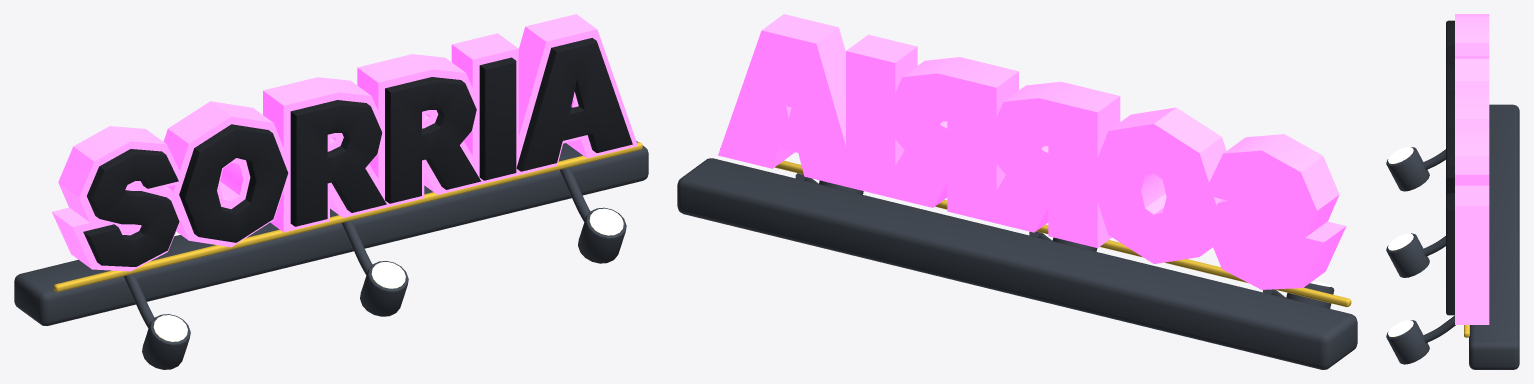
The model's file is letreiro_sorria_telhado.glb.
The picture shows the model from 3 angles, left to right: view 1: azimuth 30°, elevation 25°; view 2: azimuth 150°, elevation 25°; view 3: azimuth 270°, elevation 25°; orthographic projection. The views are drawn at different scales.
Visible parts, largest first — view 1: letreiro_sorria_telhado; view 2: letreiro_sorria_telhado; view 3: letreiro_sorria_telhado.
Boxes of the visible parts, x1=… form: letreiro_sorria_telhado: x1=14, y1=14, x2=648, y2=369; letreiro_sorria_telhado: x1=677, y1=14, x2=1357, y2=369; letreiro_sorria_telhado: x1=1386, y1=14, x2=1519, y2=369.
Bounding box in the file's own units: 5.64 × 1.82 × 1.31.
Materials: 3 (1 with a texture image).
